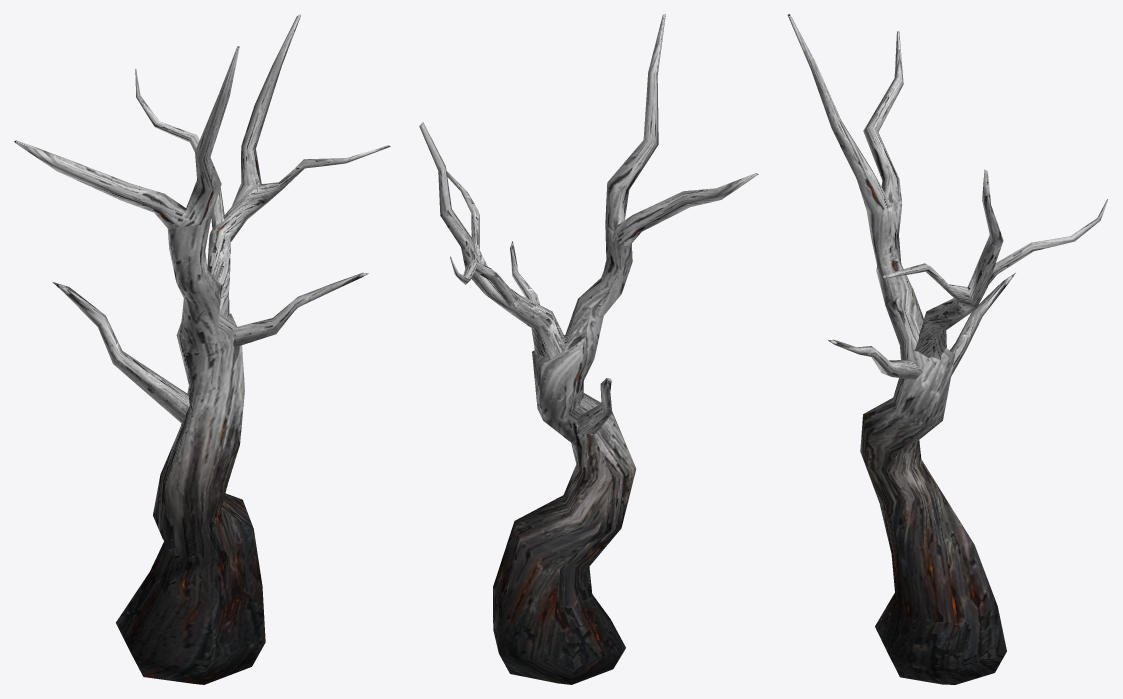
Rendered from Vo_N_CharcoalTree02.FBX.
3 renders of one model, left to right at view 1: azimuth 30°, elevation 25°; view 2: azimuth 150°, elevation 25°; view 3: azimuth 270°, elevation 25°, orthographic. The views are drawn at different scales.
Parts seen in each view (by area): view 1: Vo_N_CharcoalTree02; view 2: Vo_N_CharcoalTree02; view 3: Vo_N_CharcoalTree02.
Boxes of the visible parts, bbox=[...] form: Vo_N_CharcoalTree02: bbox=[14, 14, 390, 684]; Vo_N_CharcoalTree02: bbox=[419, 14, 758, 684]; Vo_N_CharcoalTree02: bbox=[787, 14, 1108, 684].
Size of the model in its own units: 537 by 985 by 439.
